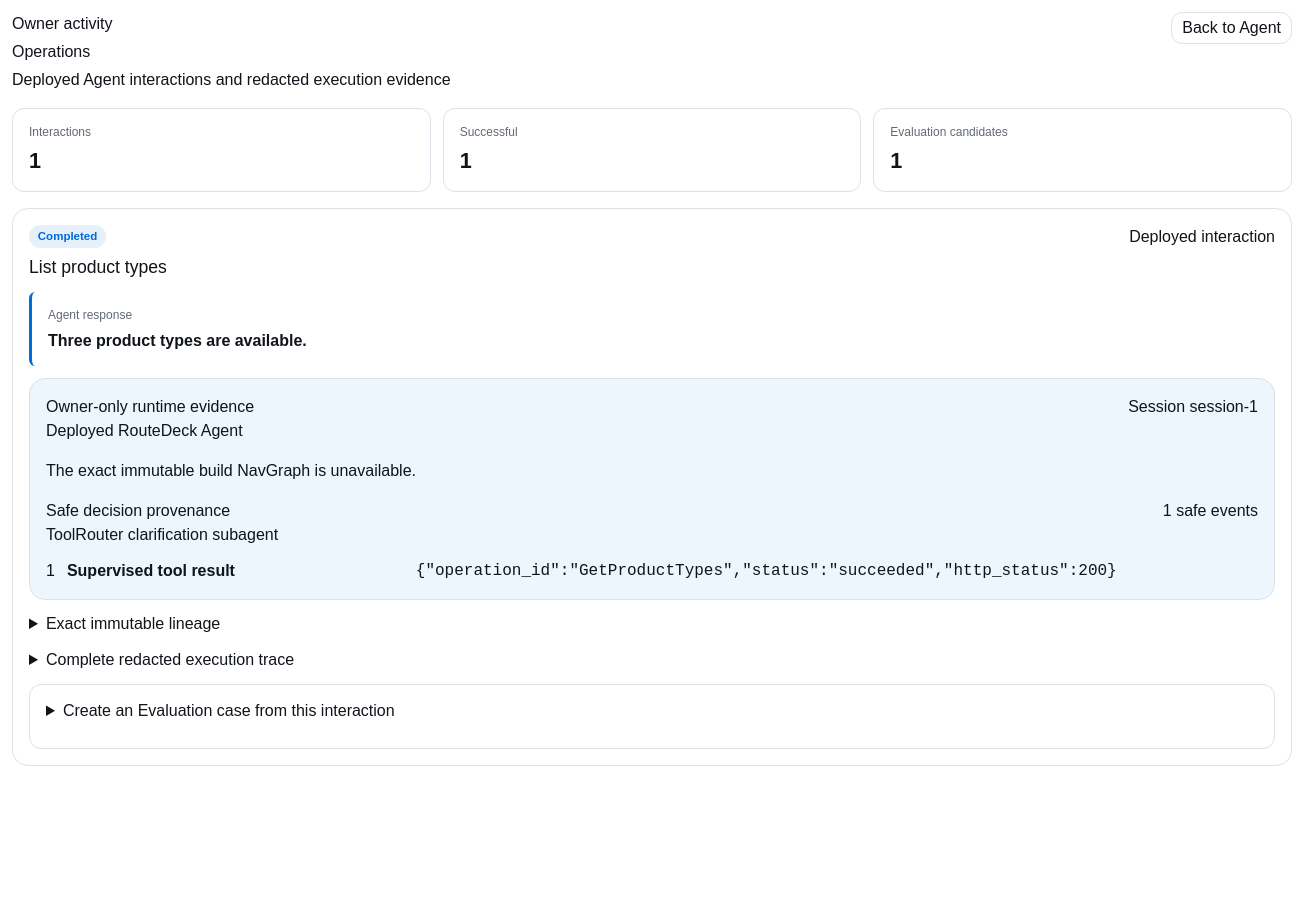
Test: presents one deployed interaction as a readable outcome and promotes it explicitly
Expected: the heading "List product types" is shown, [29,254,167,280]
Expected: the text "Three product types are available." is shown, [48,332,307,349]
Click the heading "Create an Evaluation case from this interaction" at point(229, 710), box [63,702,395,719]
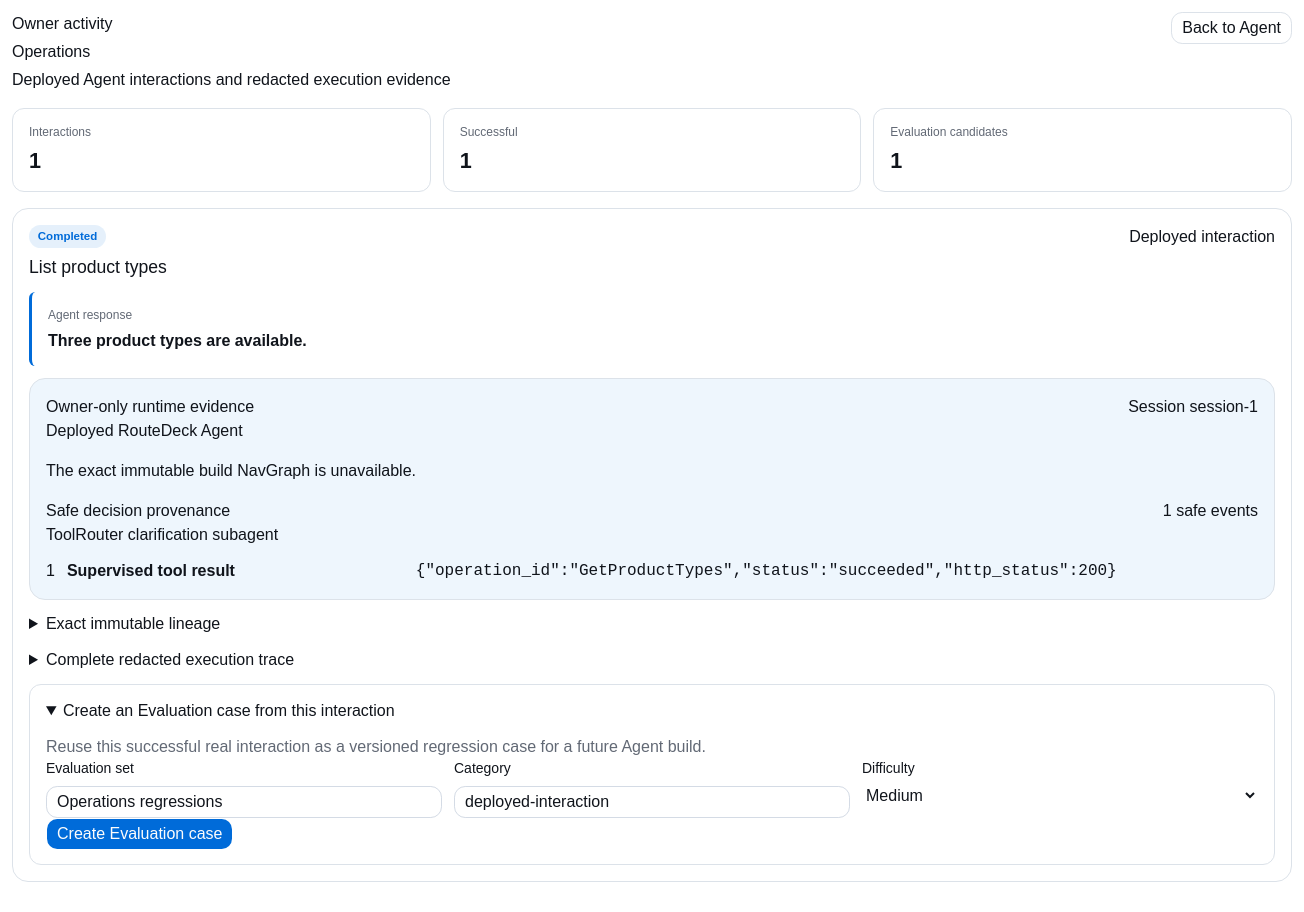
Click the button "Create Evaluation case" at point(140, 834), box [46,818,233,850]
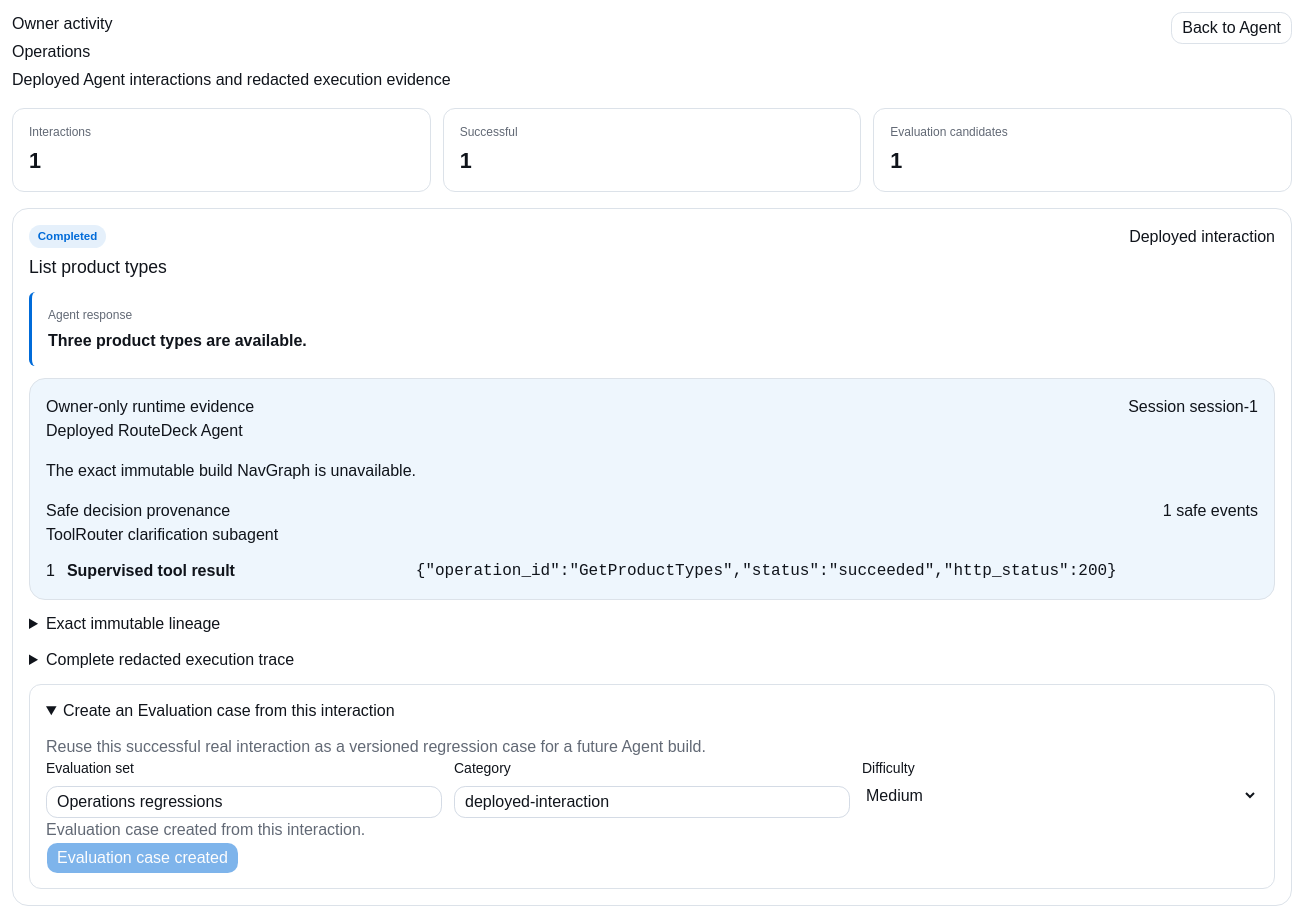
Now the message reads "Evaluation case created from this interaction.", box [46,821,365,838]
Now the button "Evaluation case created" is disabled, box [46,842,239,874]
